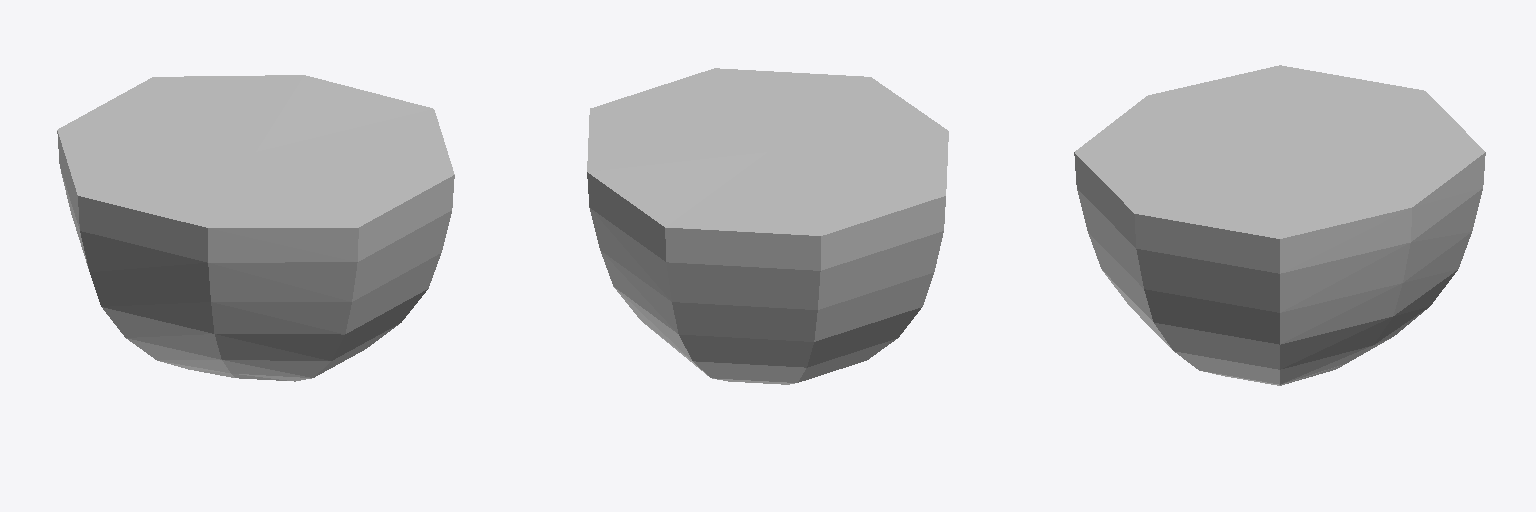
Rendered from Watermelon-C.obj.
3 views of the same model, side by side, from view 1: azimuth 30°, elevation 25°; view 2: azimuth 150°, elevation 25°; view 3: azimuth 270°, elevation 25° (orthographic).
Parts seen in each view (by area): view 1: Cube.009; view 2: Cube.009; view 3: Cube.009.
Part boxes in pixels (bbox=[...]): Cube.009: bbox=[57, 75, 454, 381]; Cube.009: bbox=[587, 68, 948, 384]; Cube.009: bbox=[1074, 65, 1485, 385].
Size of the model in its own units: 0.3685 by 0.2065 by 0.3685.